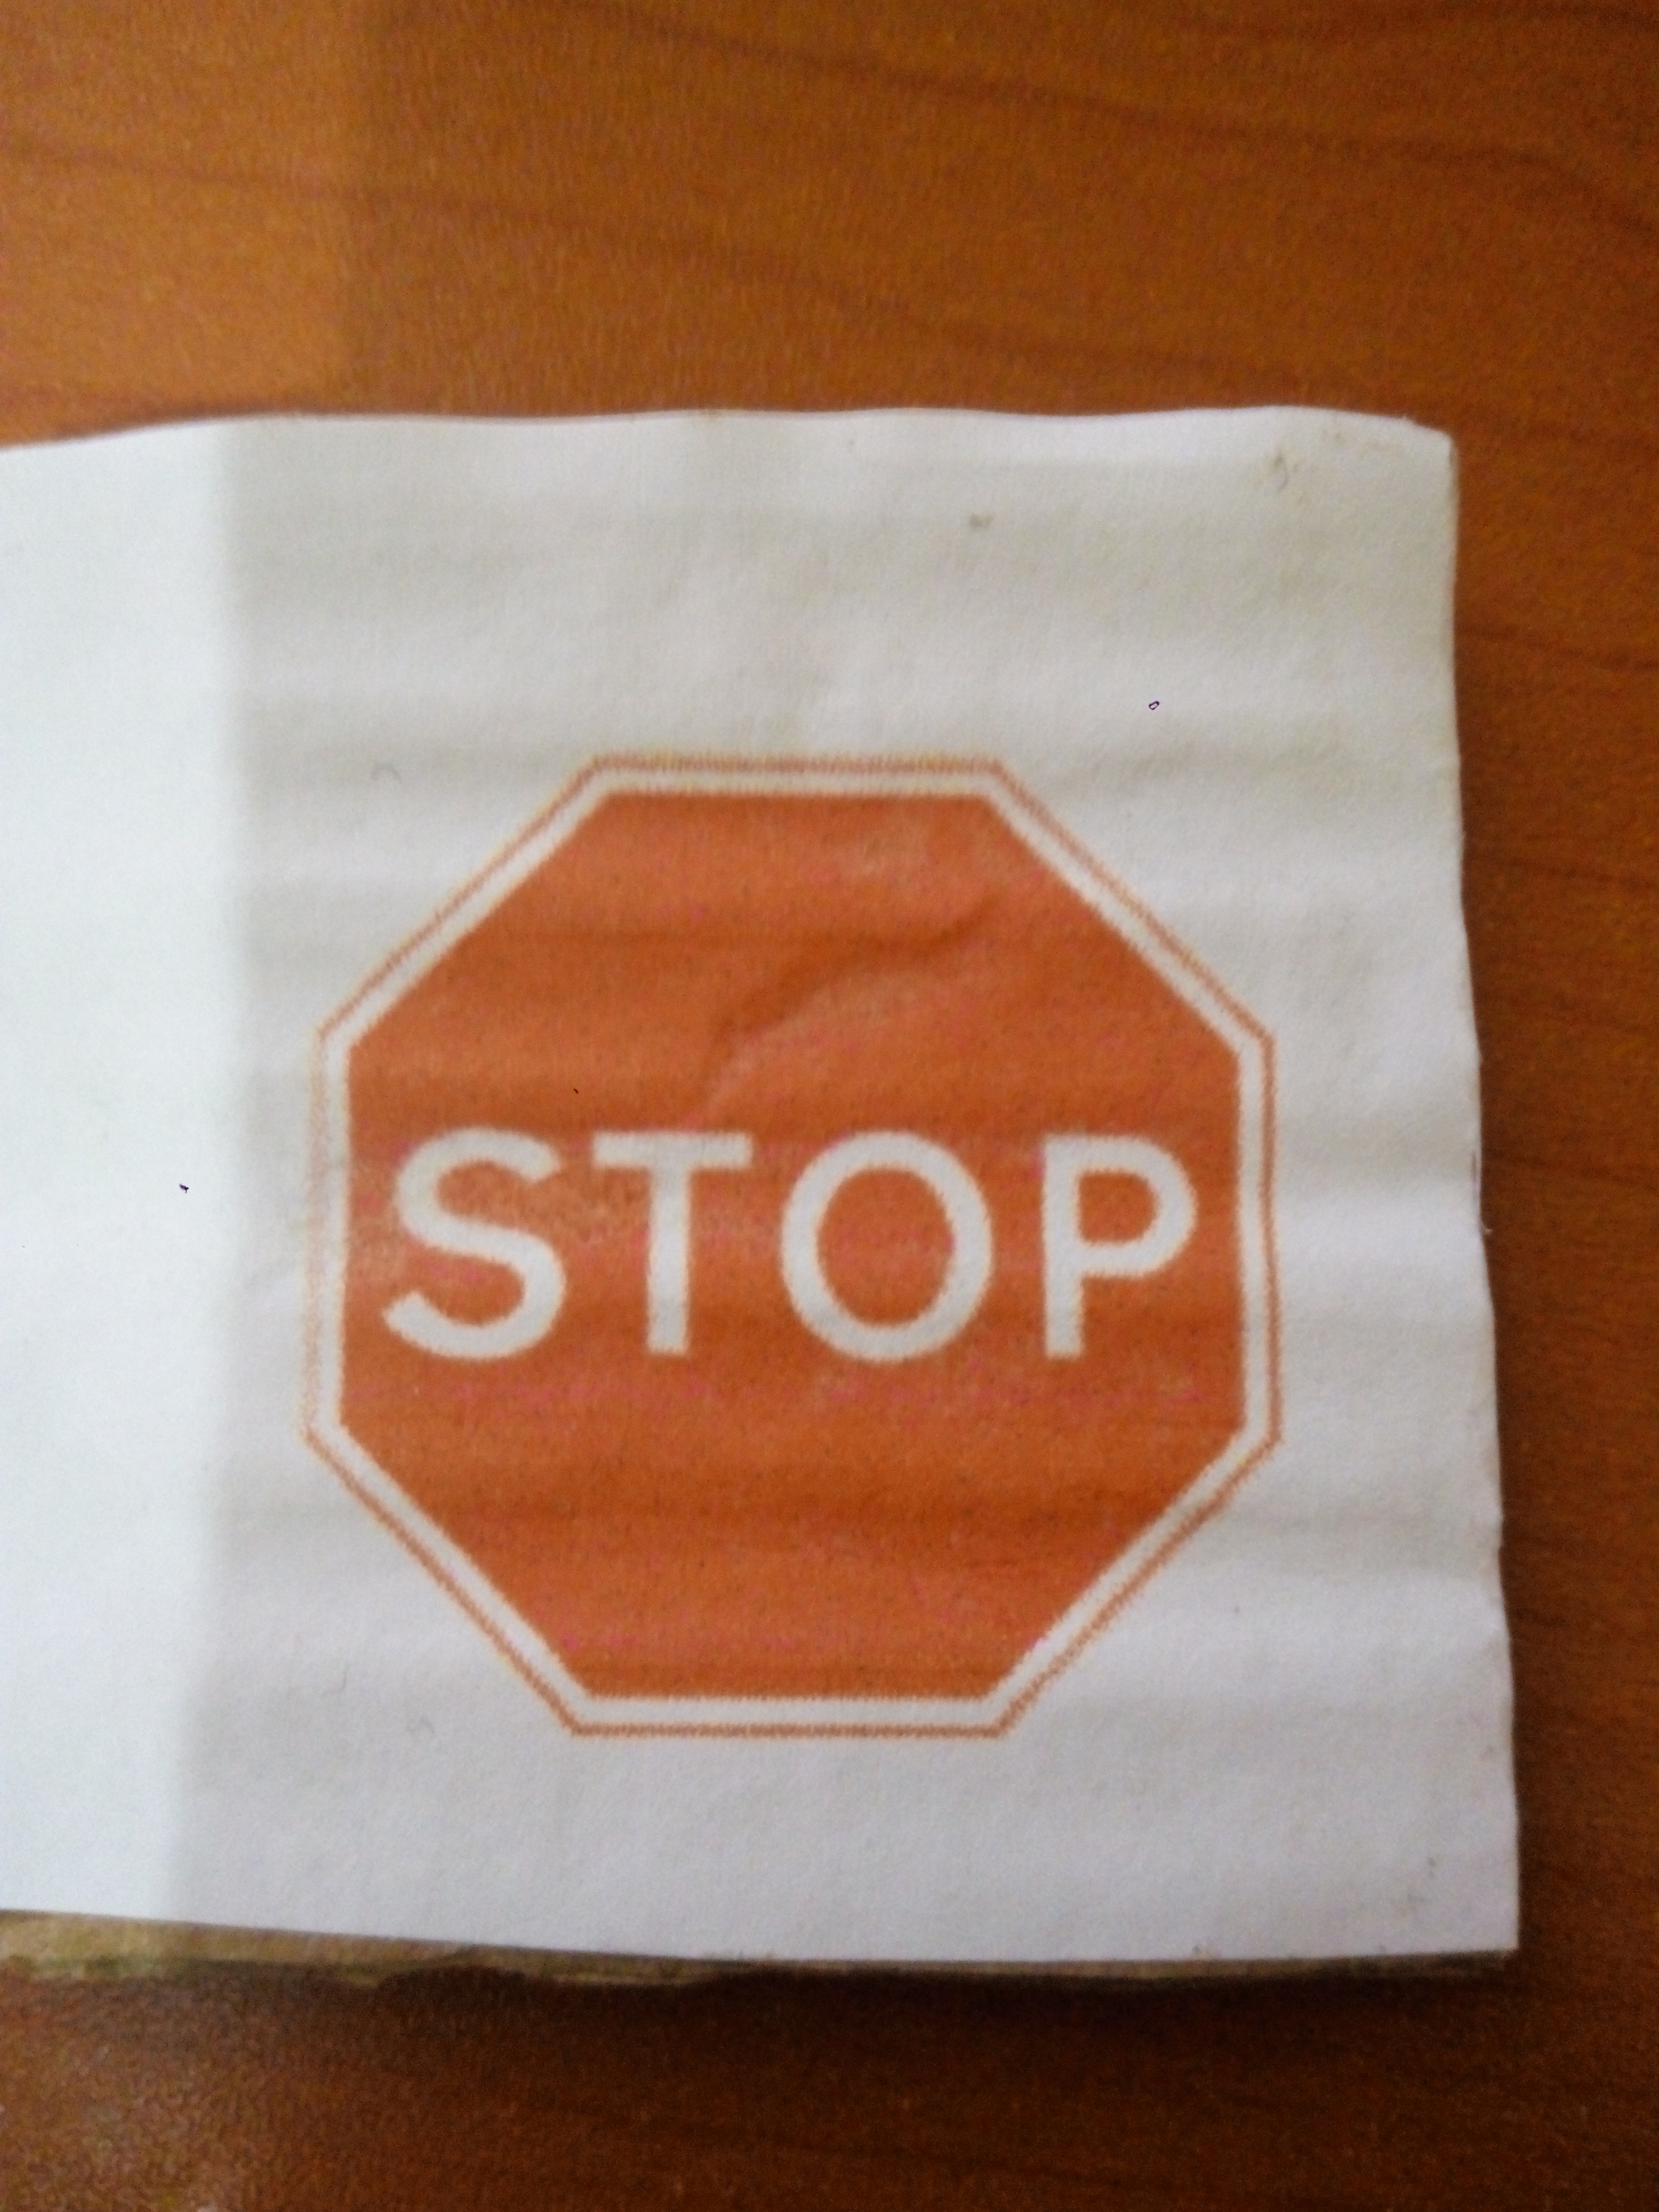stop: (267, 698, 1349, 1784)
